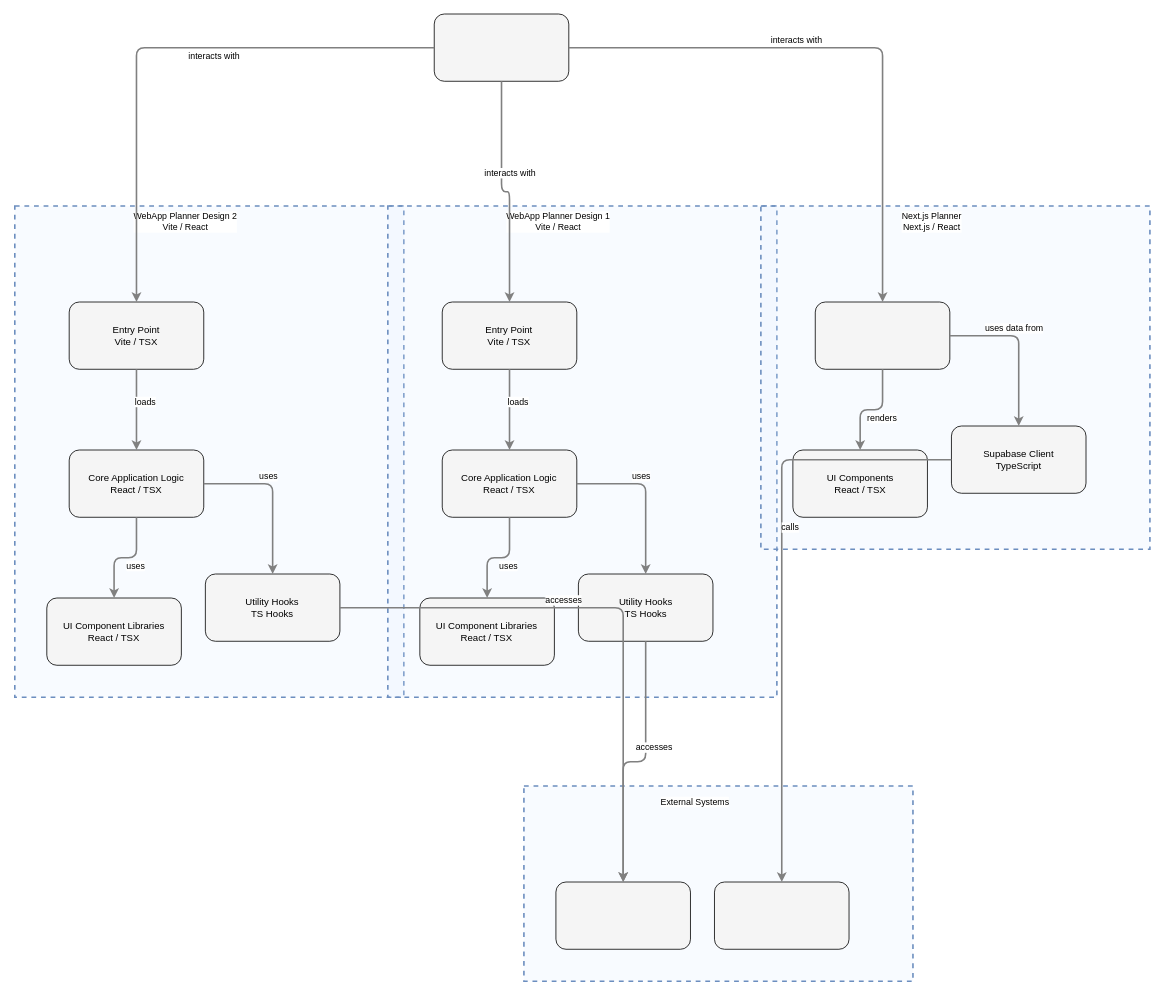
Image size: 1164x996. Some labels were removed from this diagram. Here are the shapes that lost their labels. From the top down, the box of each, then its label:
(433, 13, 569, 81): User External Actor
(814, 301, 950, 369): App Root Next.js Page/Layout
(555, 881, 690, 949): Browser Storage LocalStorage, etc.
(714, 881, 849, 949): Database APIs Supabase, etc.
